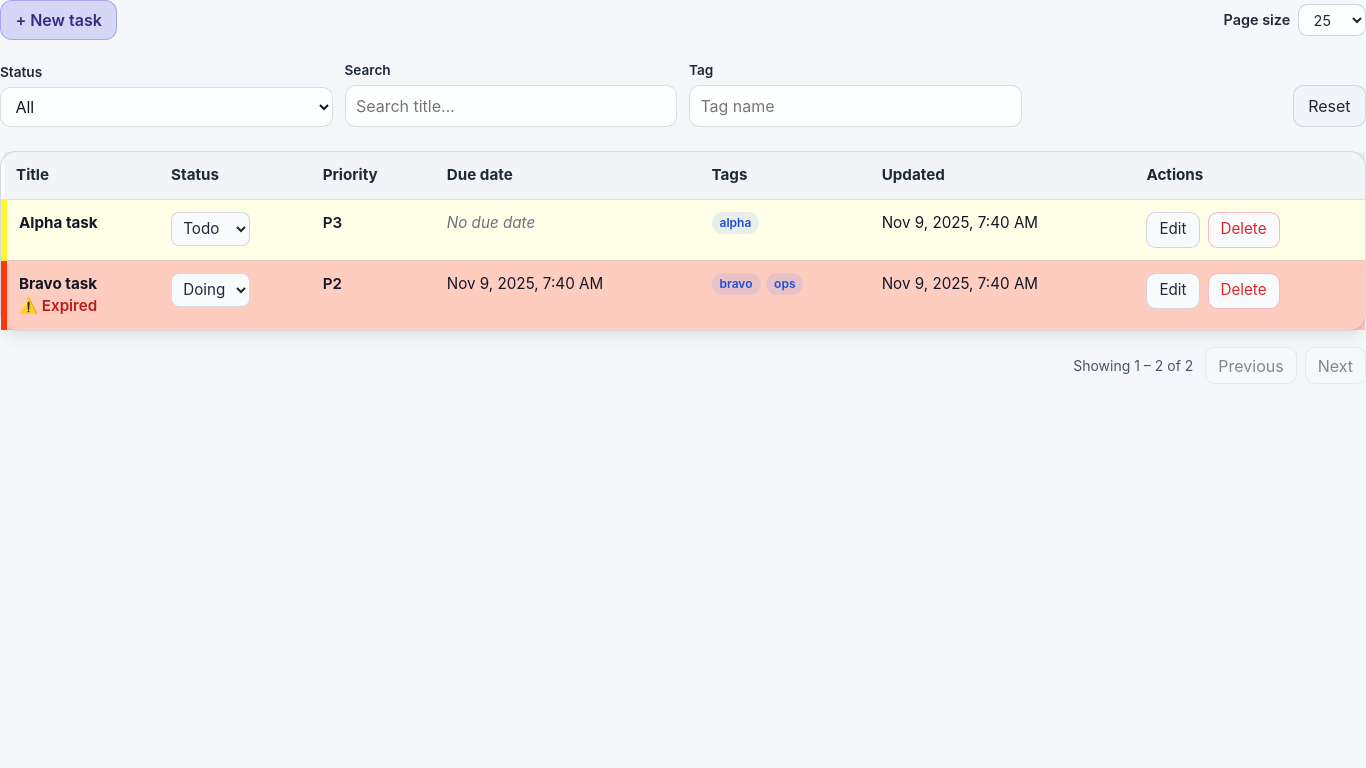
Test: TaskTableView › supports creating and deleting tasks via the UI
Click the button "+ New task": click(59, 20) [0,0,117,40]
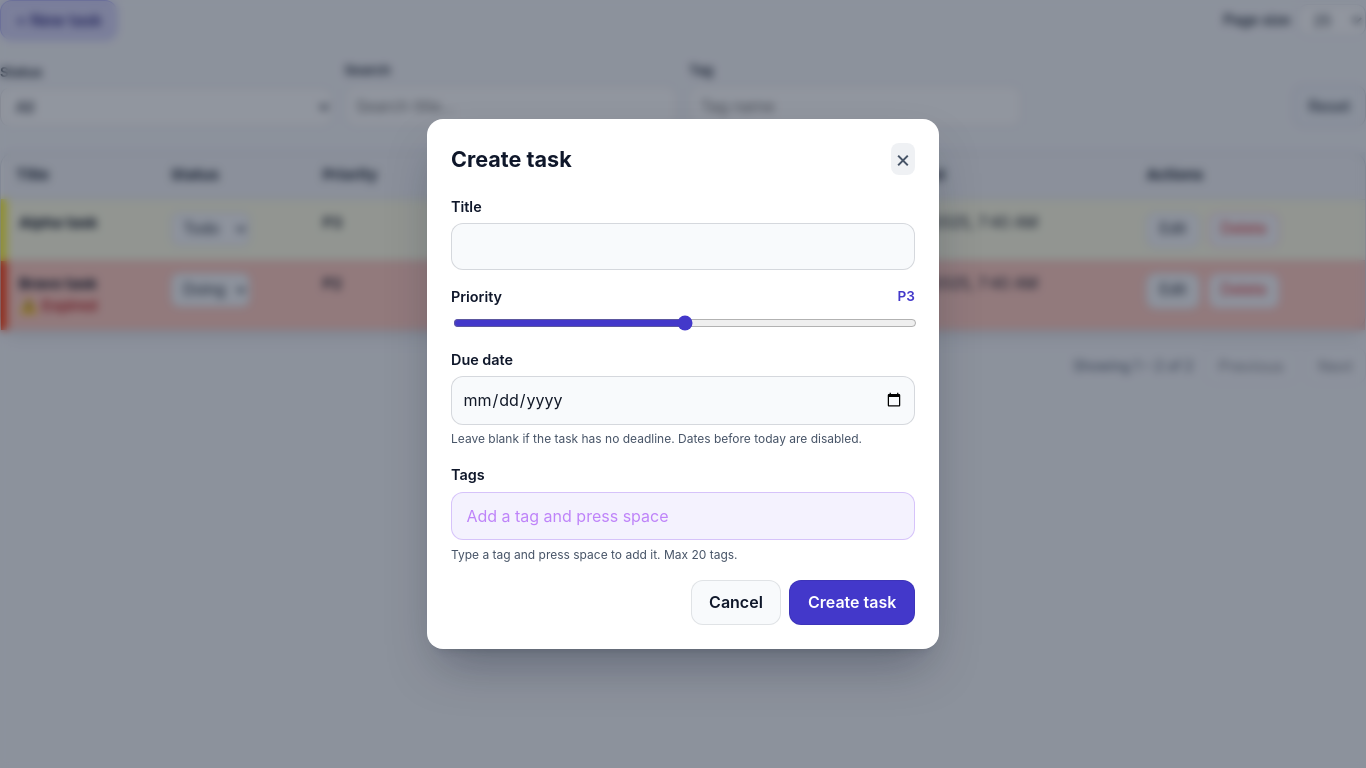
In the field labelled "Title": (683, 246) [451,223,915,270], type "New integration task"
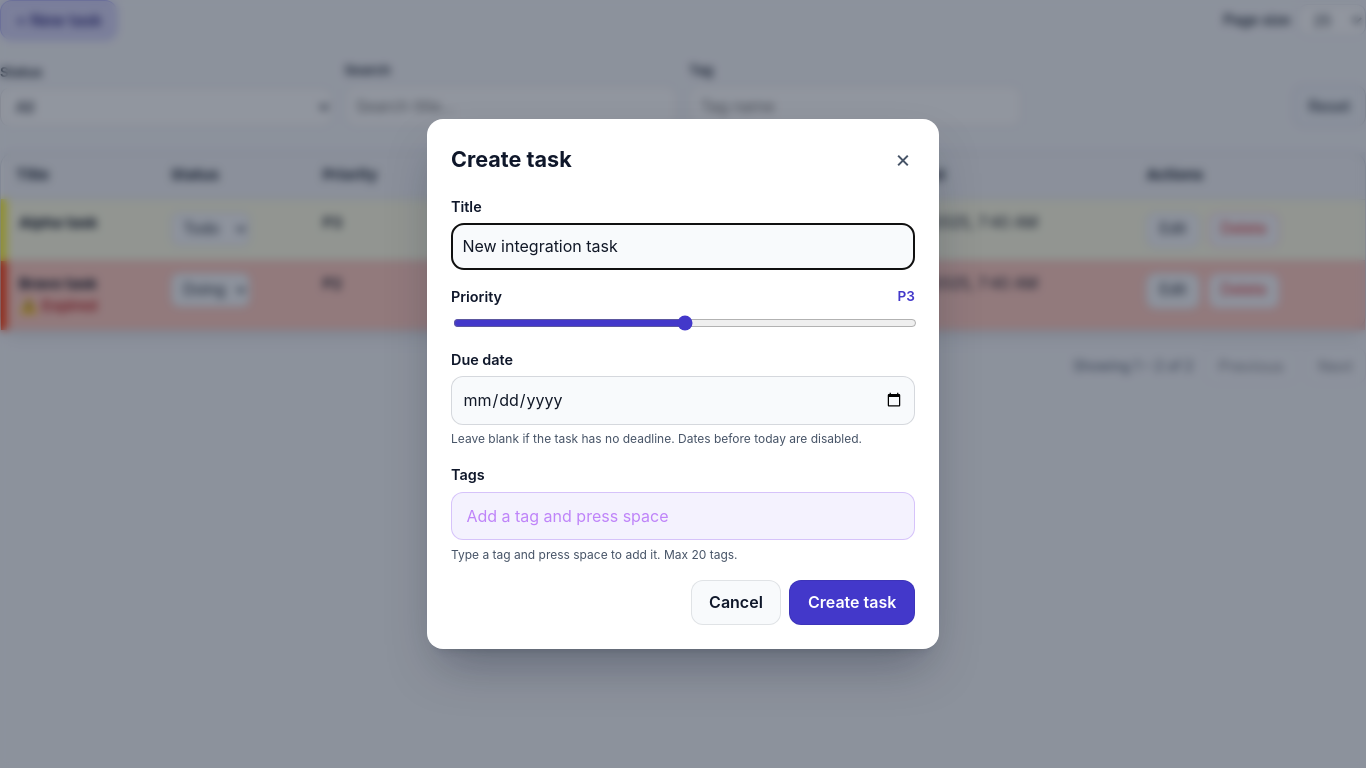
Click the button "Create task": click(852, 602) [789,580,915,625]
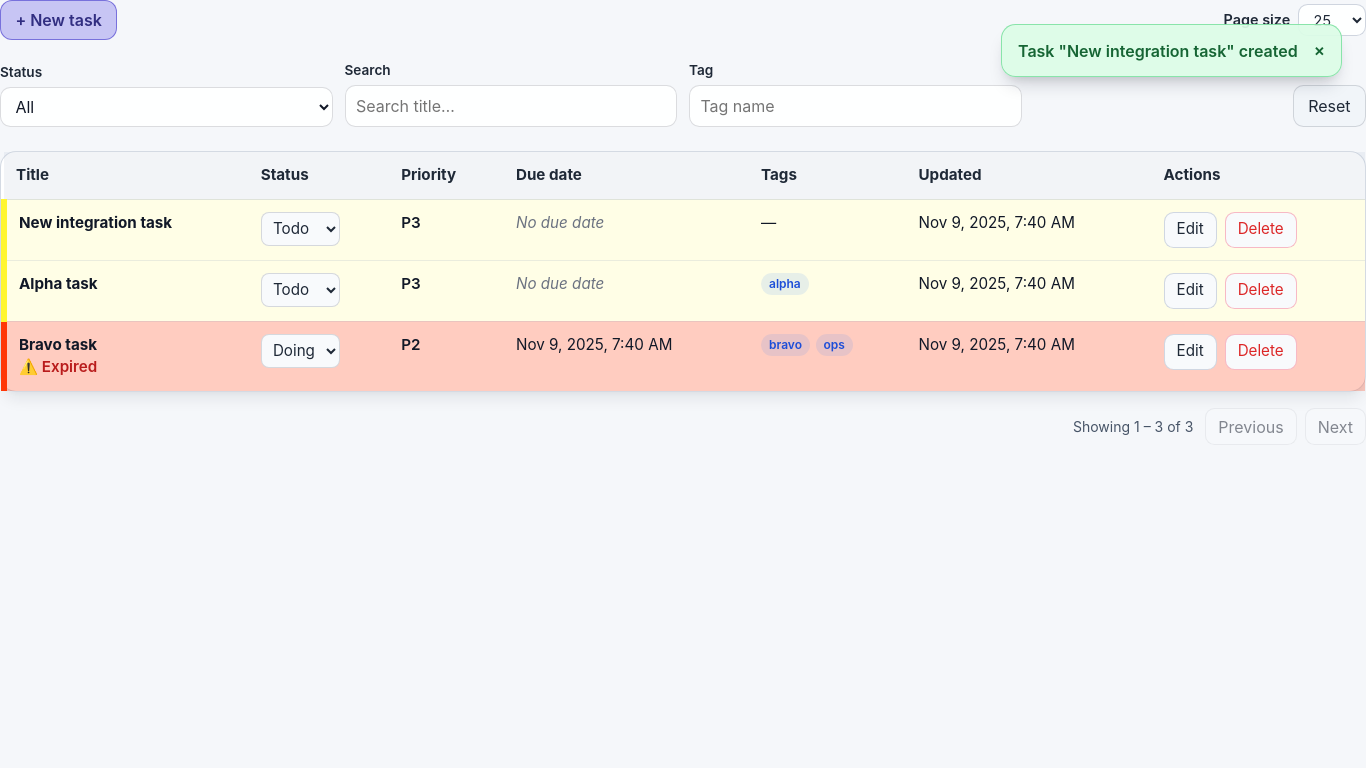
Expected: the text "New integration task" is shown, [19,213,172,232]
Click the 1st button "Delete": click(1261, 230) [1225,212,1297,248]
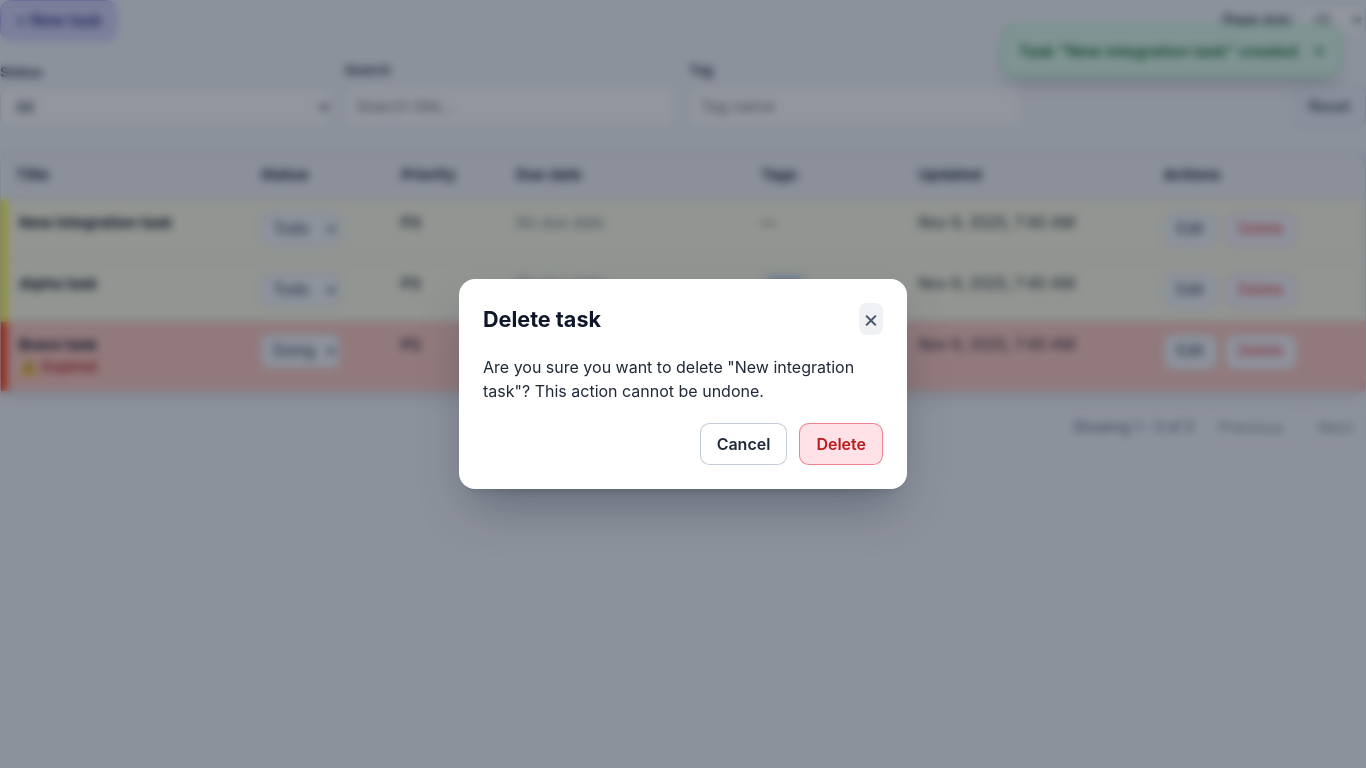
Expected: the text "Are you sure you want to delete \"New integration task\"?" is shown, [483,355,883,403]
Click the button "Delete": click(841, 444) [799,423,883,465]
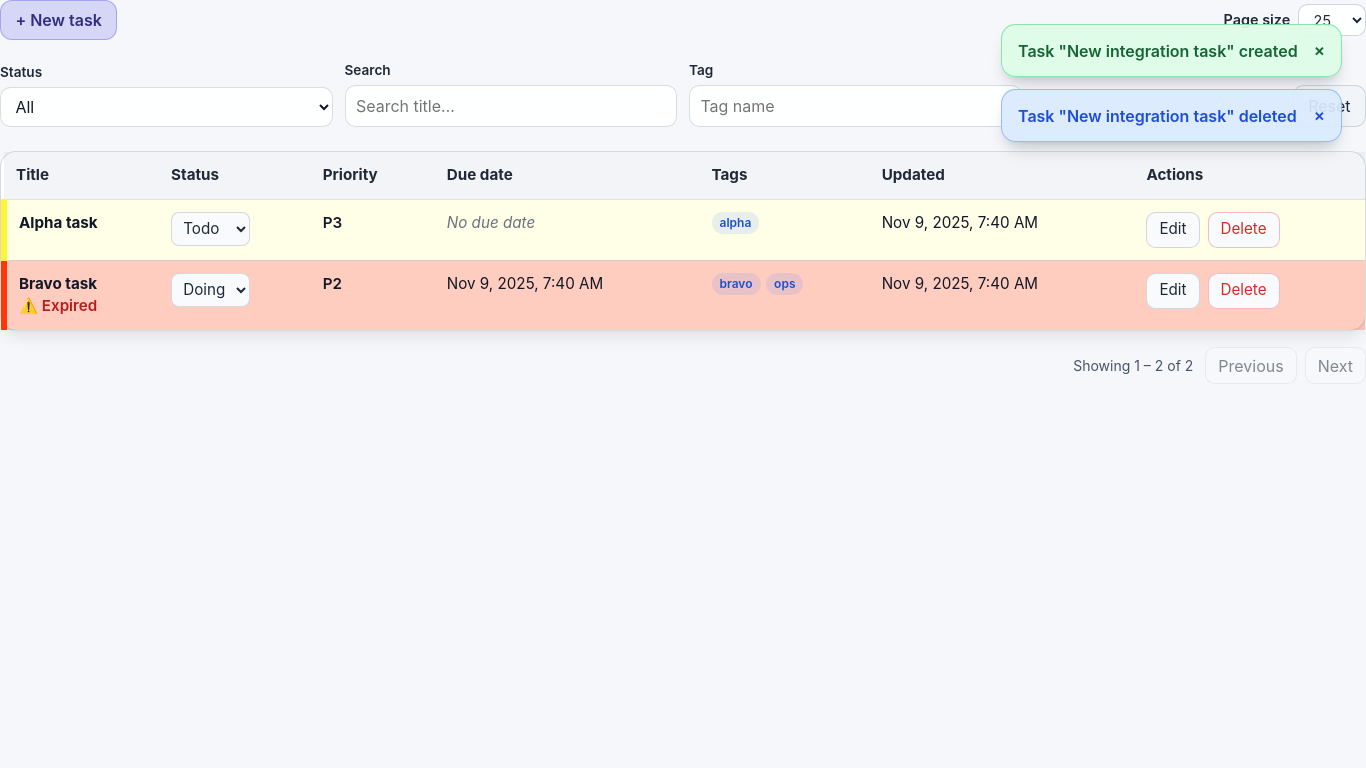
Expected: the text "Task \"New integration task\" deleted" is shown, [1018,104,1297,128]
